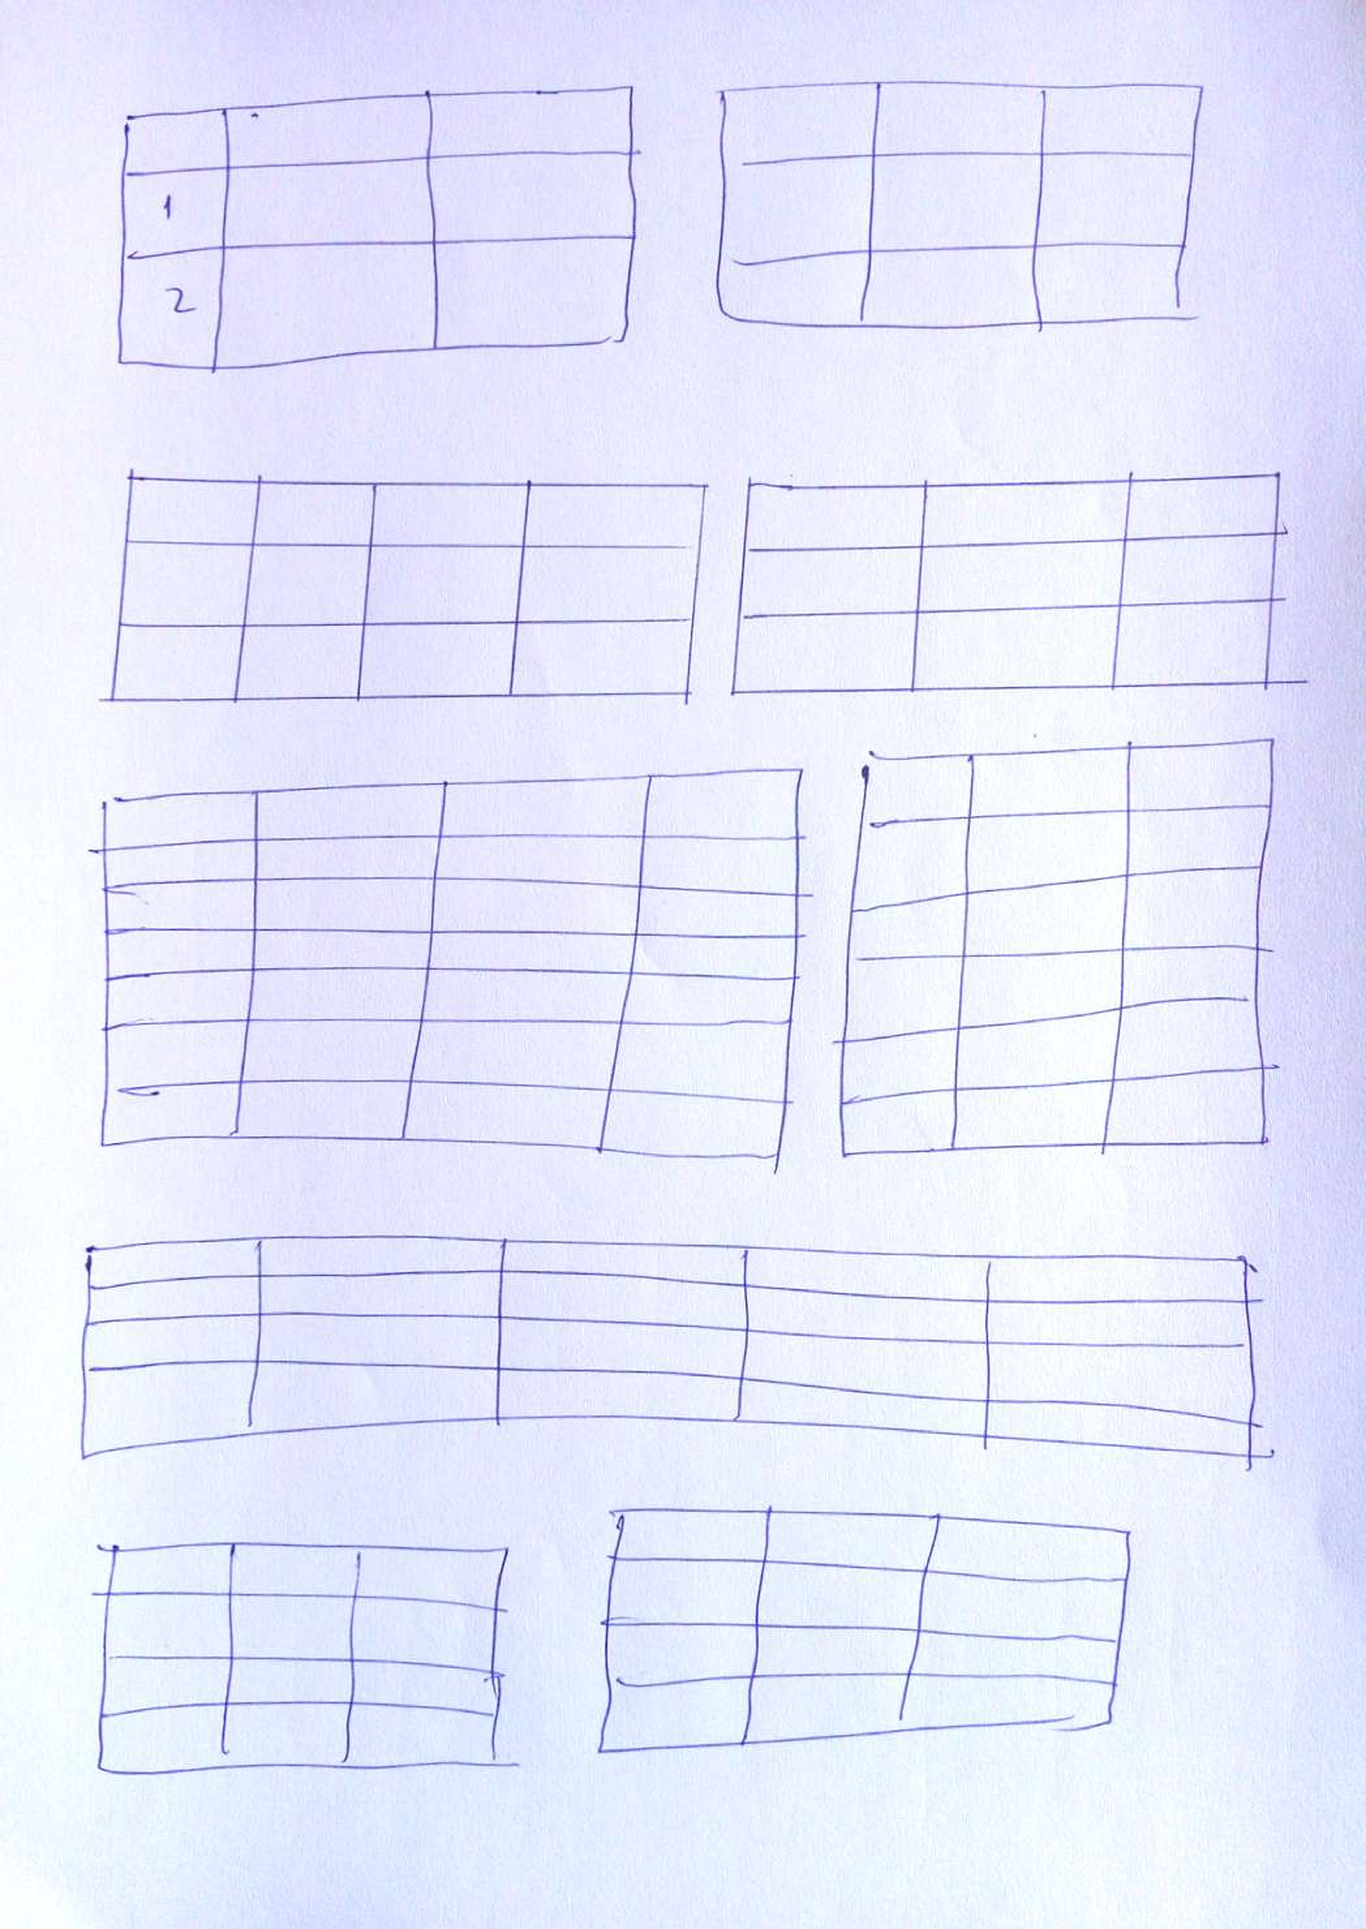Table: (95, 766, 809, 1172), (74, 1228, 1271, 1469), (835, 735, 1286, 1163), (109, 81, 645, 375), (588, 1502, 1138, 1760), (103, 474, 710, 708), (727, 472, 1289, 702), (713, 75, 1206, 334), (92, 1537, 514, 1784)
